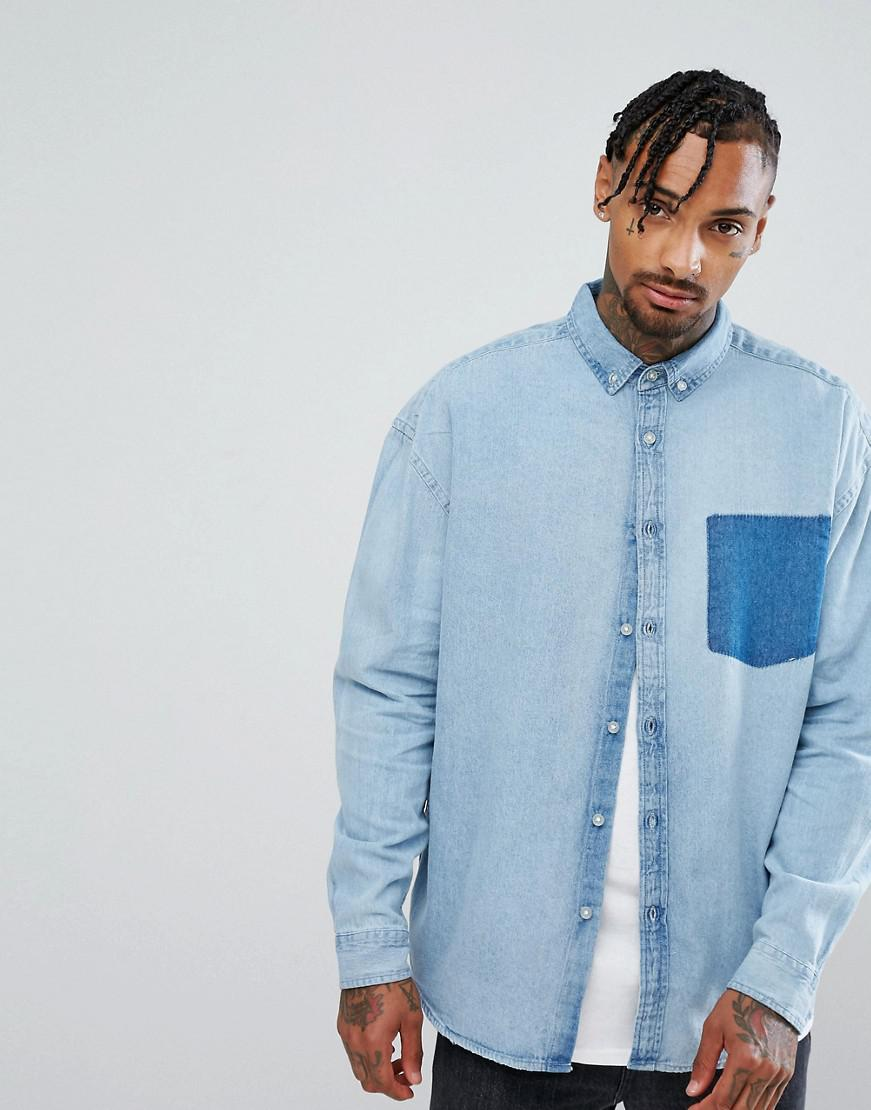teeshirt: (322, 283, 871, 1025)
